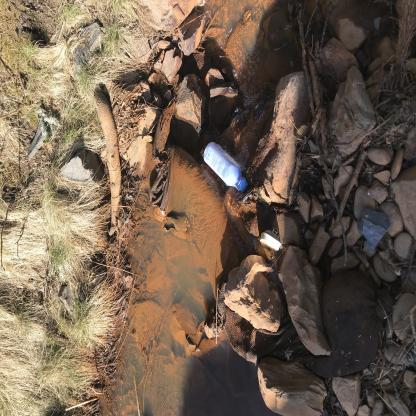trash: (164, 265, 216, 341), (117, 338, 141, 388)
